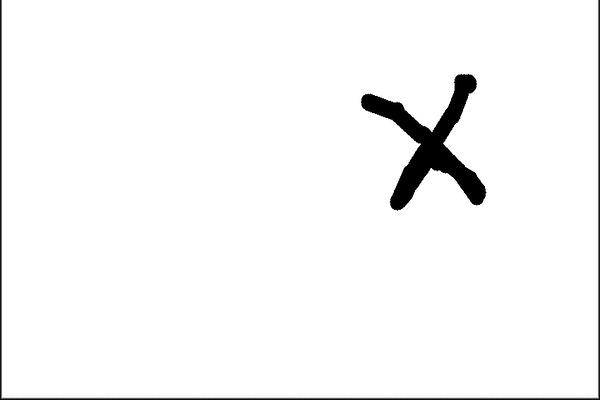X: (342, 53, 520, 223)
